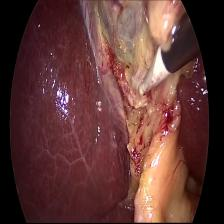Hook: (137, 41, 170, 98)
